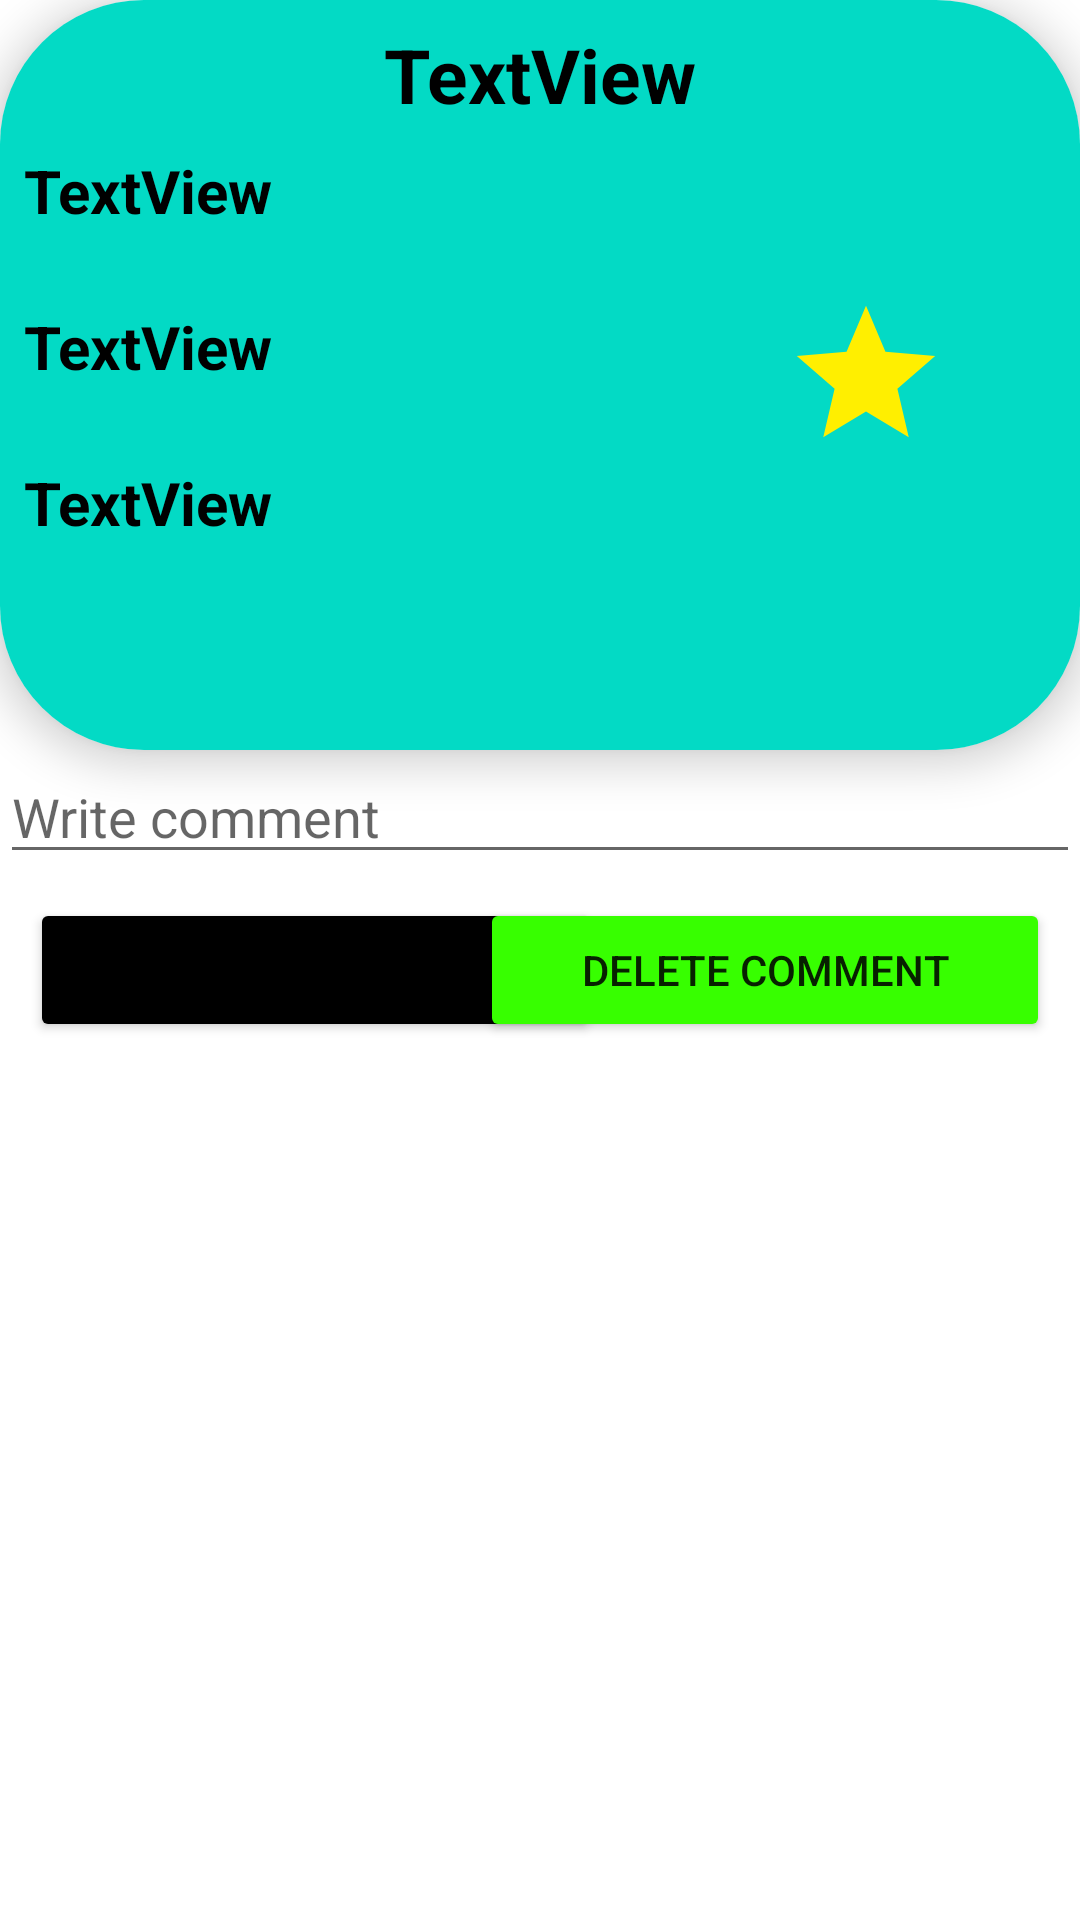

Point at icon controls on the screen. Image size 1080*1920, points as (x,y).
star: (866,371)
